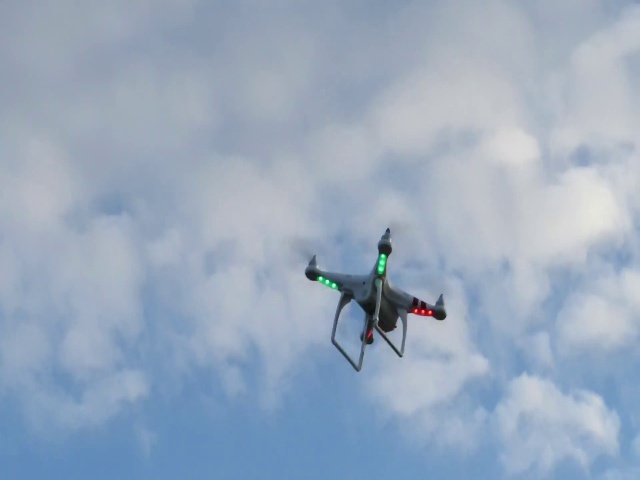drone: (290, 216, 454, 375)
